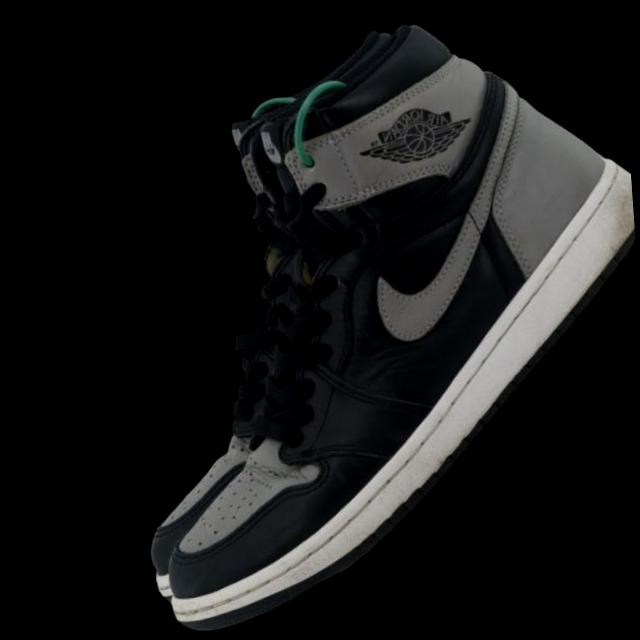nike_original_jordan: (0, 0, 640, 640), (0, 0, 585, 618)
